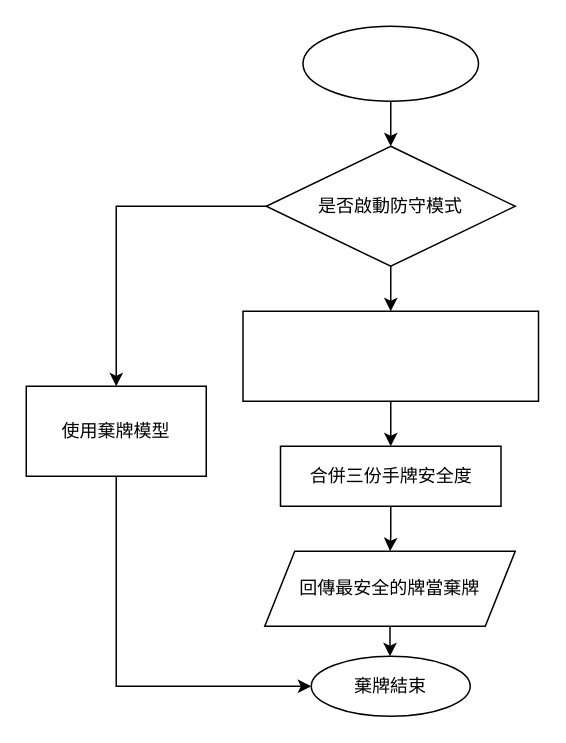
Image size: 566x743. Some labels were removed from this diagram. The centre of each missing label's shape, as x and y in pixels:
AI決定棄牌: (x=390, y=63)
根據牌種安全度表 對其他三位玩家 計算手牌安全度: (x=390, y=355)
